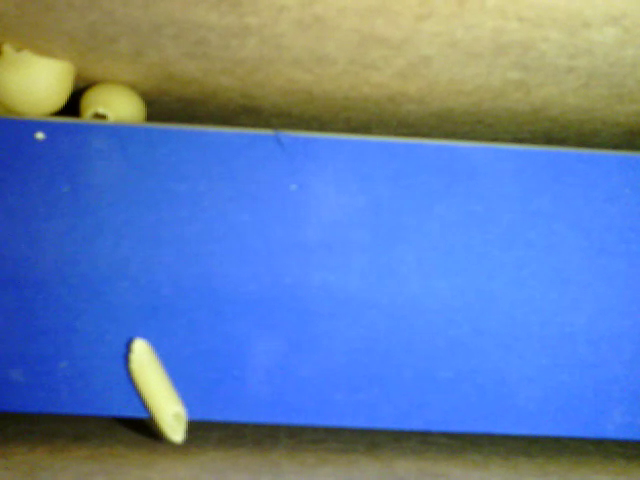penne: (127, 337, 189, 444)
shell: (1, 44, 73, 116), (80, 82, 146, 121)
